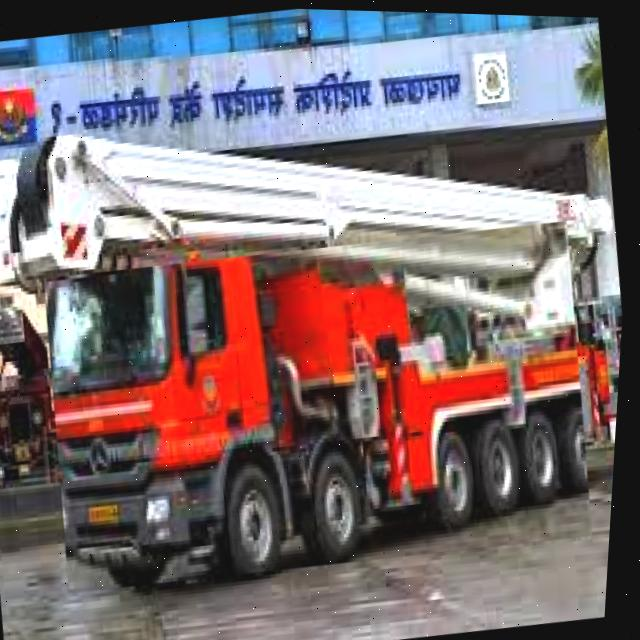Fire Truck: (31, 206, 611, 605)
